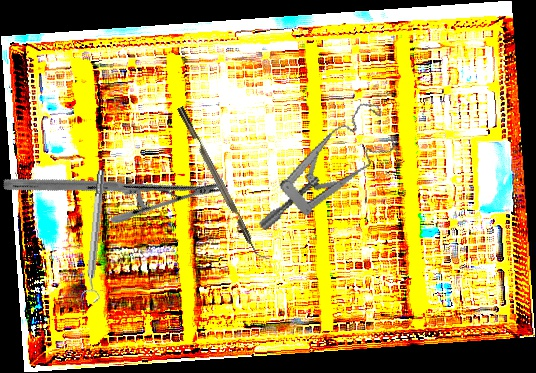Chopper: (177, 102, 270, 265)
Fixation Ring: (78, 169, 113, 304)
Needle Holder: (0, 90, 225, 283)
Speculum: (232, 95, 413, 234)
